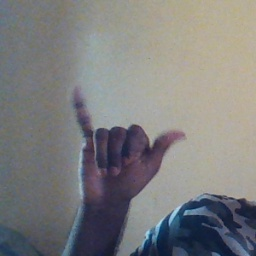J: (66, 84, 189, 203)
